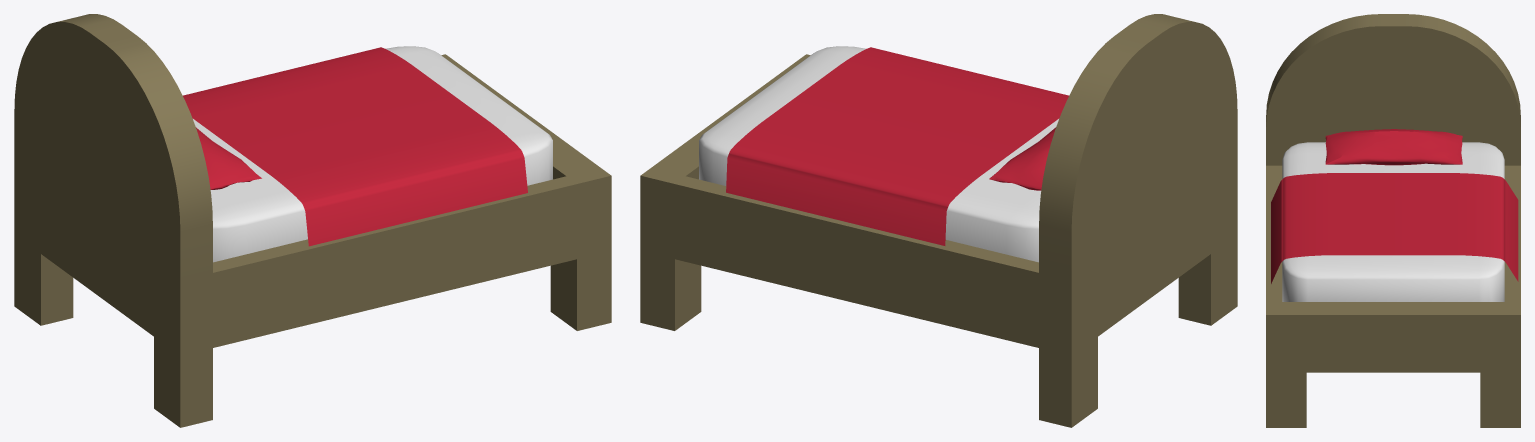
Rendered from bed.glb.
3 views of the same model, side by side, from view 1: azimuth 30°, elevation 25°; view 2: azimuth 150°, elevation 25°; view 3: azimuth 270°, elevation 25° (orthographic). The views are drawn at different scales.
Parts seen in each view (by area): view 1: Cube.001, Cube.003, Cube.002, 큐브; view 2: Cube.001, Cube.003, Cube.002, 큐브; view 3: Cube.001, Cube.003, Cube.002, 큐브.
Boxes of the visible parts, x1=… form: Cube.001: x1=14, y1=14, x2=611, y2=427; Cube.003: x1=183, y1=47, x2=527, y2=246; Cube.002: x1=193, y1=46, x2=552, y2=262; 큐브: x1=196, y1=127, x2=261, y2=189; Cube.001: x1=640, y1=14, x2=1237, y2=427; Cube.003: x1=726, y1=47, x2=1068, y2=245; Cube.002: x1=699, y1=46, x2=1058, y2=262; 큐브: x1=989, y1=127, x2=1055, y2=190; Cube.001: x1=1266, y1=14, x2=1520, y2=427; Cube.003: x1=1271, y1=173, x2=1518, y2=283; Cube.002: x1=1282, y1=142, x2=1504, y2=301; 큐브: x1=1325, y1=129, x2=1462, y2=165.
Bounding box in the file's own units: 1.9 × 1.38 × 1.27.
